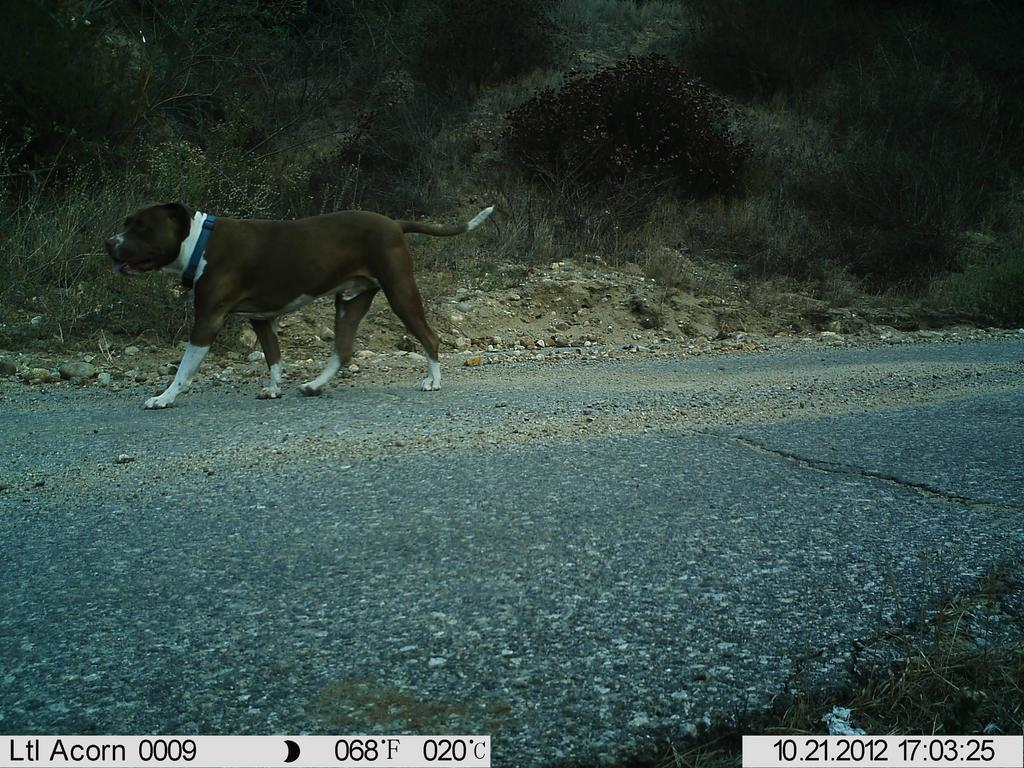dog: (100, 182, 509, 419)
